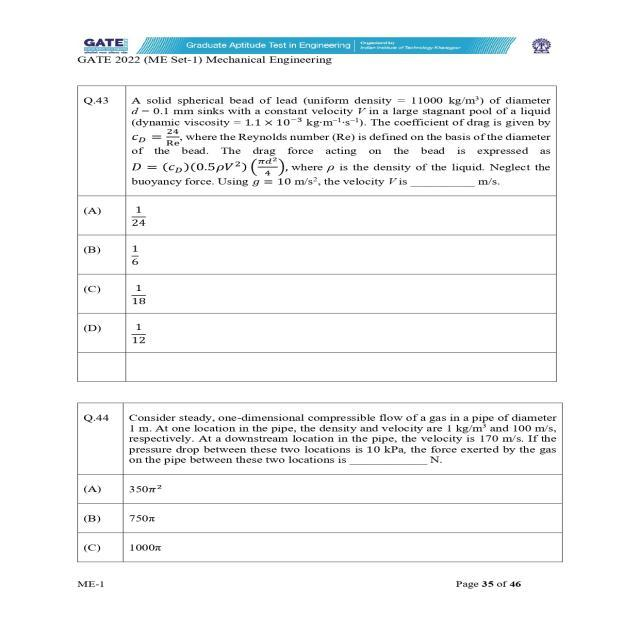Answer_Block: (49, 202, 588, 388), (49, 476, 588, 575)
Question_Answer_Block: (49, 77, 588, 388), (49, 400, 588, 575)
Question_Block: (49, 78, 588, 200), (49, 401, 588, 474)
Question_Paper_Area: (49, 77, 588, 575)
